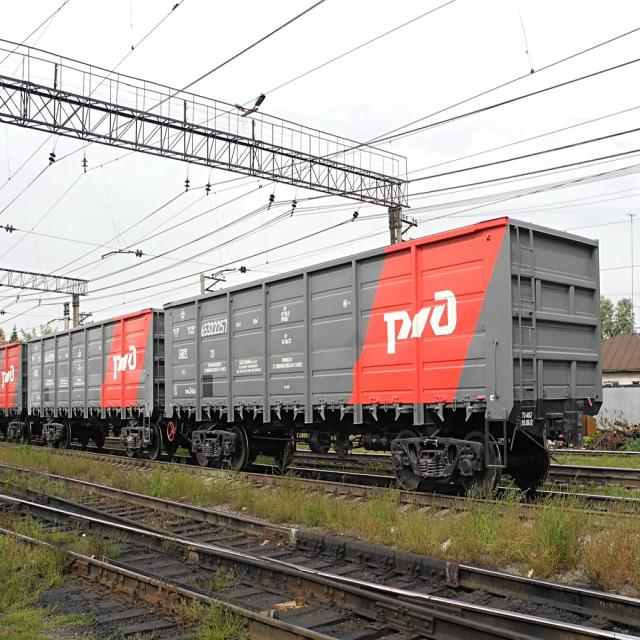gondola: (158, 201, 610, 499), (28, 305, 161, 456), (0, 329, 27, 441)
